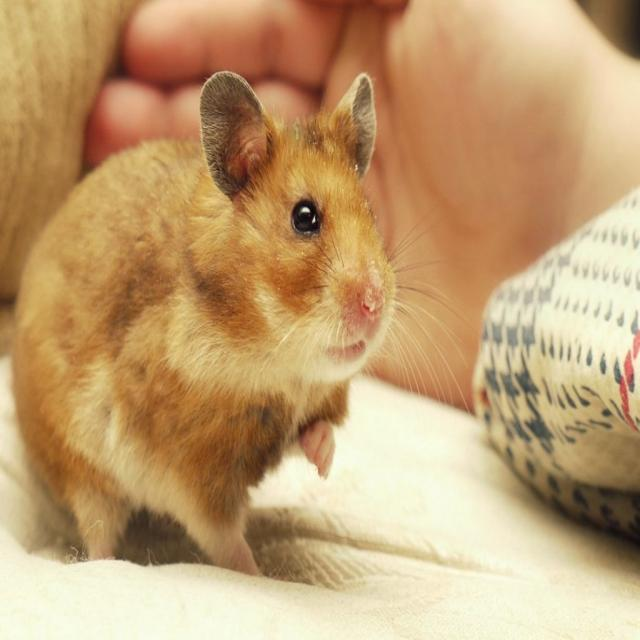rat: (10, 70, 403, 576)
